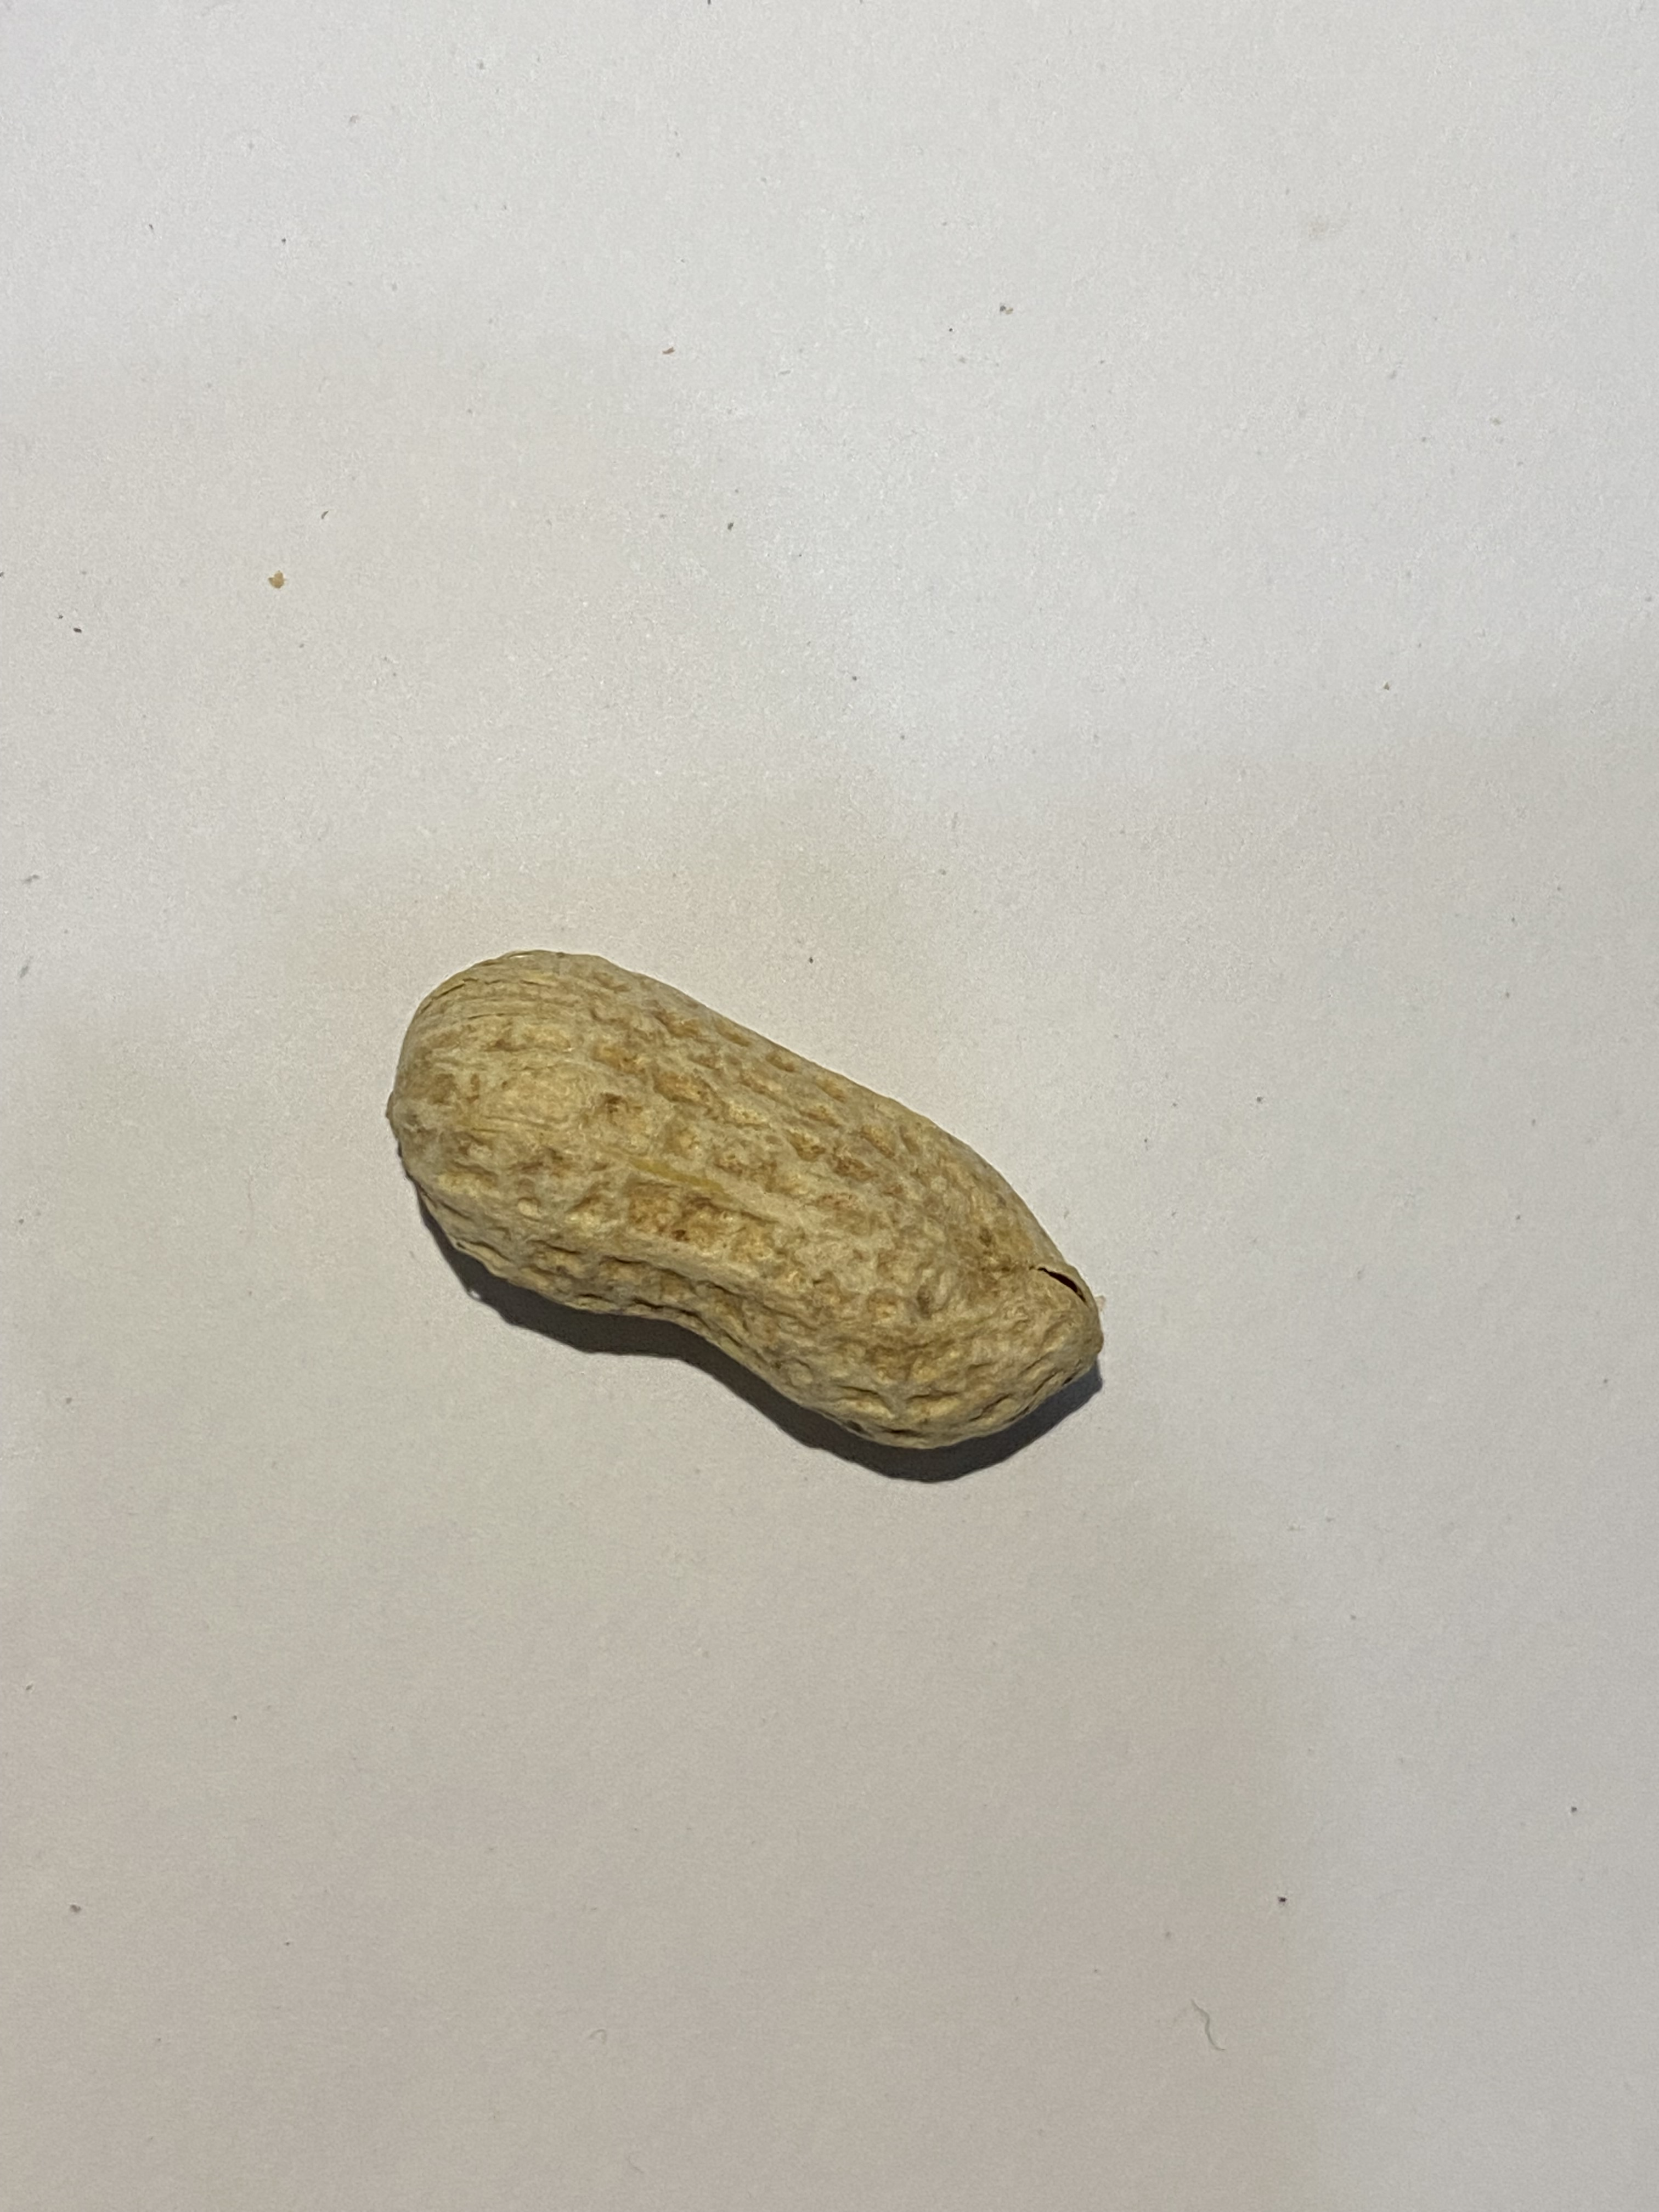kacang2: (385, 904, 1112, 1463)
